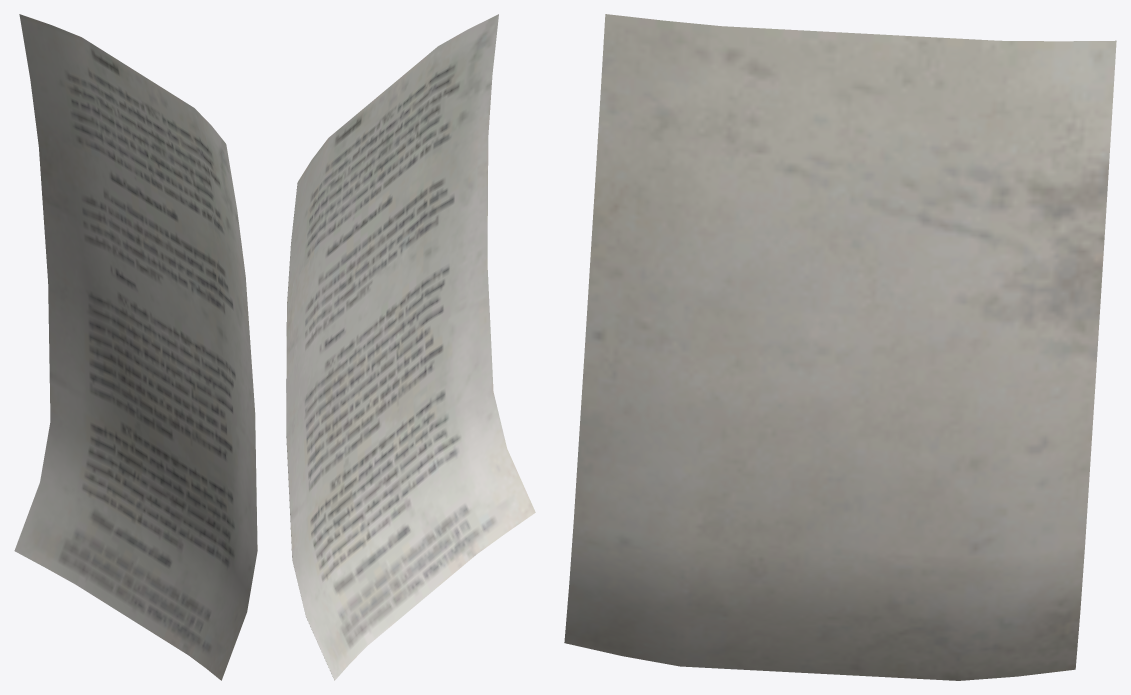
Rendered from Paper_D.mo.004.fbx.
3 renders of one model, left to right at view 1: azimuth 30°, elevation 25°; view 2: azimuth 150°, elevation 25°; view 3: azimuth 270°, elevation 25°, orthographic. The views are drawn at different scales.
Parts seen in each view (by area): view 1: Paper_D.mo.004; view 2: Paper_D.mo.004; view 3: Paper_D.mo.004.
Part boxes in pixels (x1=…): Paper_D.mo.004: x1=14, y1=14, x2=257, y2=680; Paper_D.mo.004: x1=286, y1=14, x2=535, y2=680; Paper_D.mo.004: x1=564, y1=14, x2=1116, y2=680.
Size of the model in its own units: 4.89 by 44.24 by 32.98.
